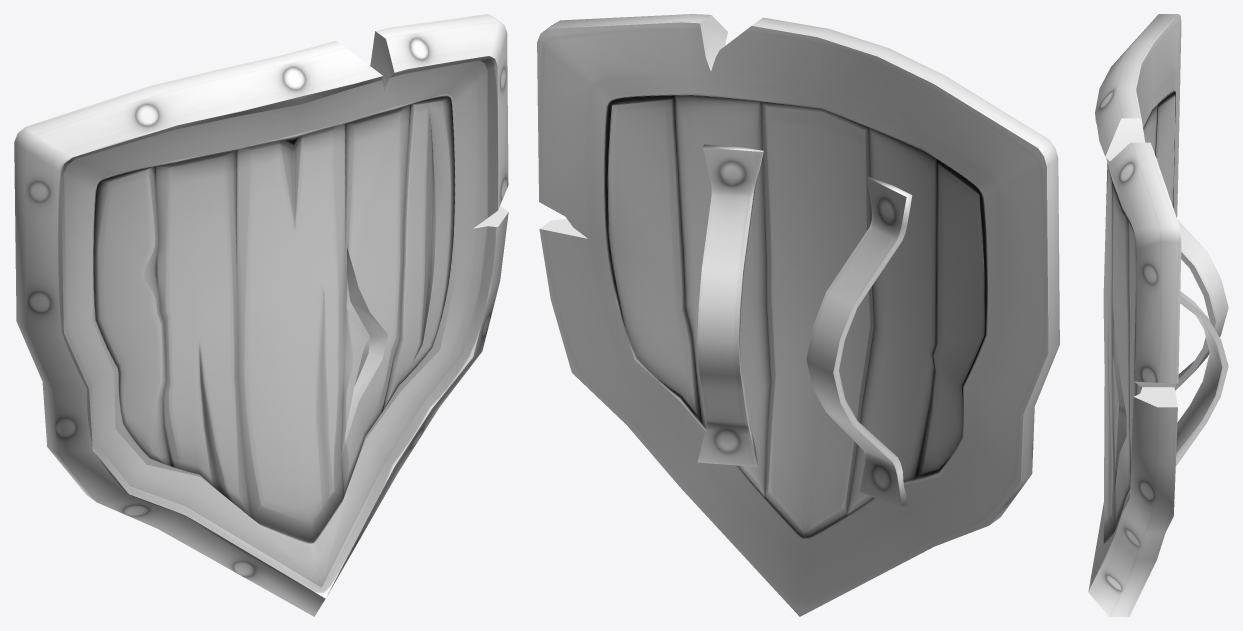
File: 203_a_broken_shield.fbx
3 views of the same model, side by side, from view 1: azimuth 30°, elevation 25°; view 2: azimuth 150°, elevation 25°; view 3: azimuth 270°, elevation 25° (orthographic). The views are drawn at different scales.
Parts seen in each view (by area): view 1: 060_a_wooden_shield; view 2: 060_a_wooden_shield; view 3: 060_a_wooden_shield.
Part boxes in pixels (x1=…): 060_a_wooden_shield: x1=14, y1=14, x2=508, y2=616; 060_a_wooden_shield: x1=537, y1=14, x2=1059, y2=616; 060_a_wooden_shield: x1=1088, y1=14, x2=1228, y2=616.
Size of the model in its own units: 63.24 by 69.66 by 17.11.
